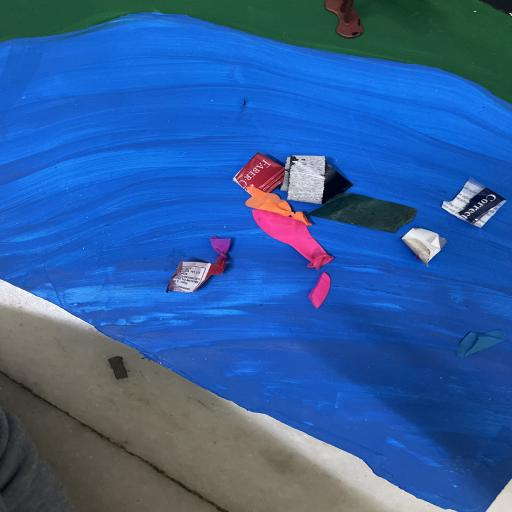trash: (163, 149, 506, 308)
